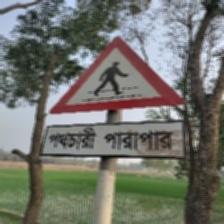Pedestrian-crossing: (43, 35, 189, 159)
